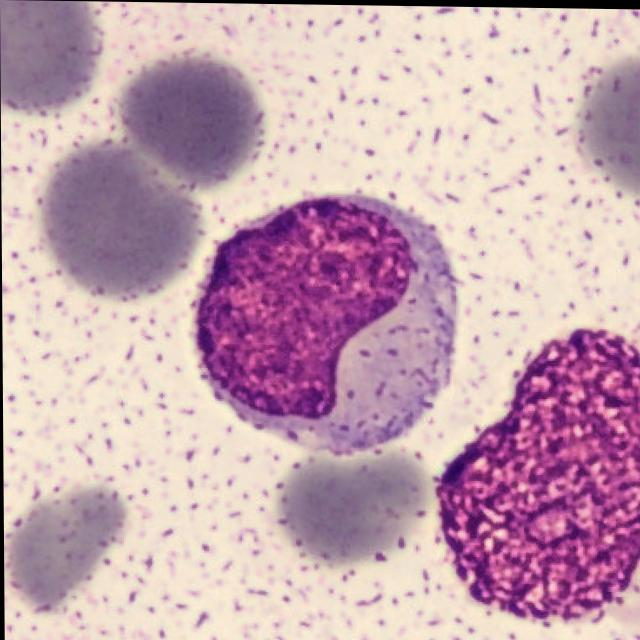Metamielocito: (192, 197, 456, 450)
Restos celulares: (434, 328, 640, 620)
